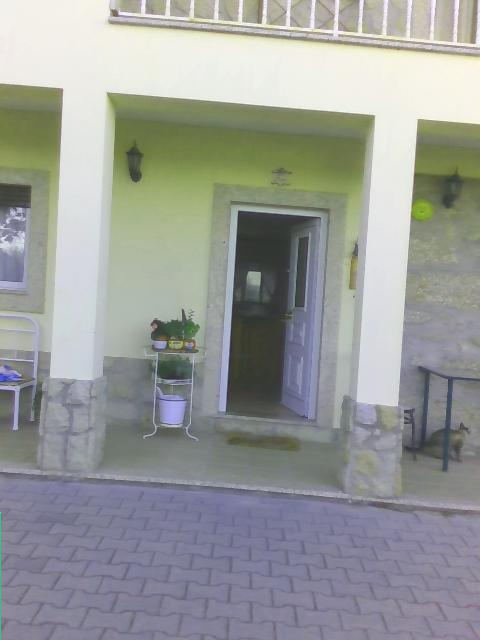open_door: (218, 199, 329, 429)
